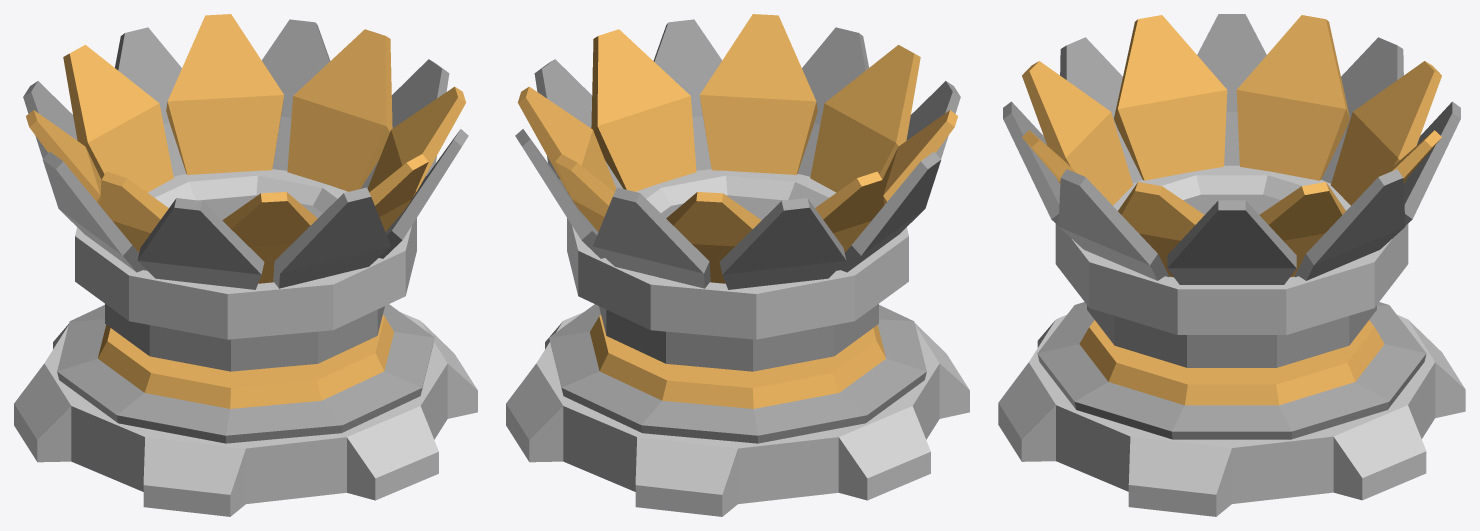
File: sf_teleporter_1.glb
3 views of the same model, side by side, from view 1: azimuth 30°, elevation 25°; view 2: azimuth 150°, elevation 25°; view 3: azimuth 270°, elevation 25° (orthographic).
Visible parts, largest first — view 1: Props_Teleporter_1; view 2: Props_Teleporter_1; view 3: Props_Teleporter_1.
Part boxes in pixels (<box>): Props_Teleporter_1: <box>14,14,477,516</box>; Props_Teleporter_1: <box>506,14,969,516</box>; Props_Teleporter_1: <box>998,14,1465,516</box>.
Bounding box in the file's own units: 1.21 × 0.9046 × 1.21.
